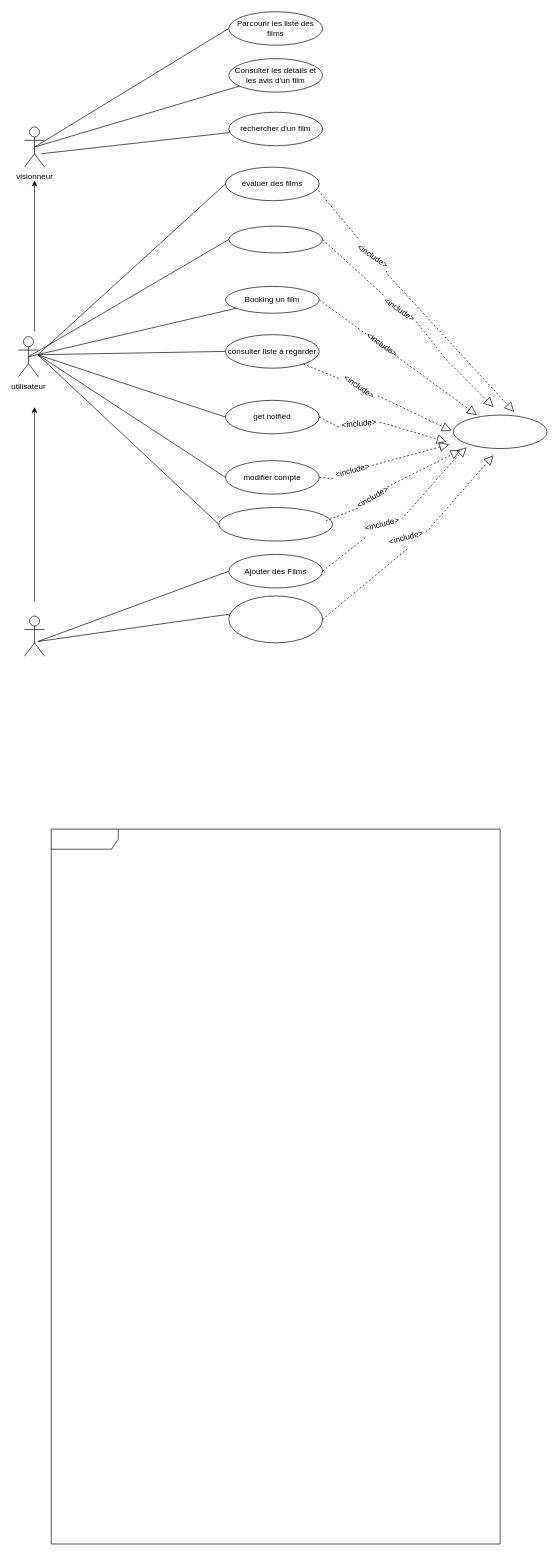
Image size: 559x1556. Some labels were removed from this diagram. The box of each missing label's shape, as (x1, y1, x2, y2) in pixels:
Admin: (24, 615, 45, 656)
Gérer les utilisateurs: (228, 595, 323, 643)
laisser les commentaires: (228, 225, 323, 253)
Se connecter: (453, 414, 547, 449)
supprimer compte: (218, 507, 333, 541)
VelCine: (51, 828, 500, 1544)
